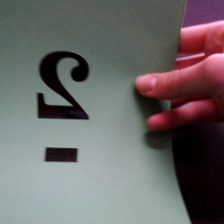green2: (26, 44, 97, 172)
